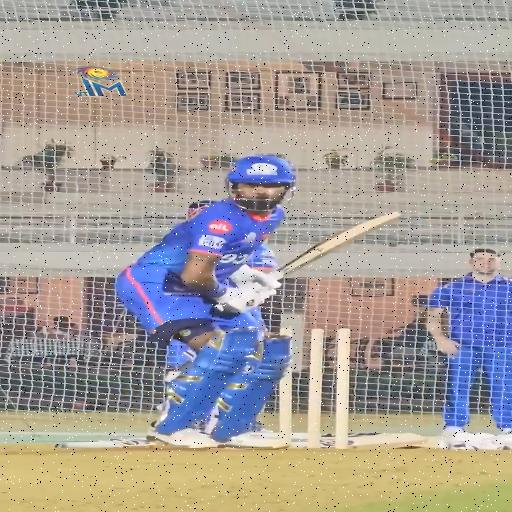Cricket bat: (275, 212, 400, 278)
